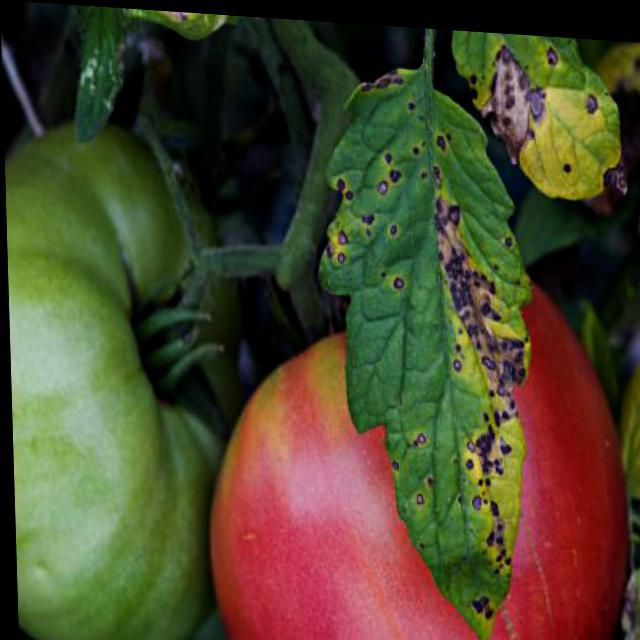Tomato Septoria spot leaf: (330, 51, 544, 632), (451, 24, 634, 200)
